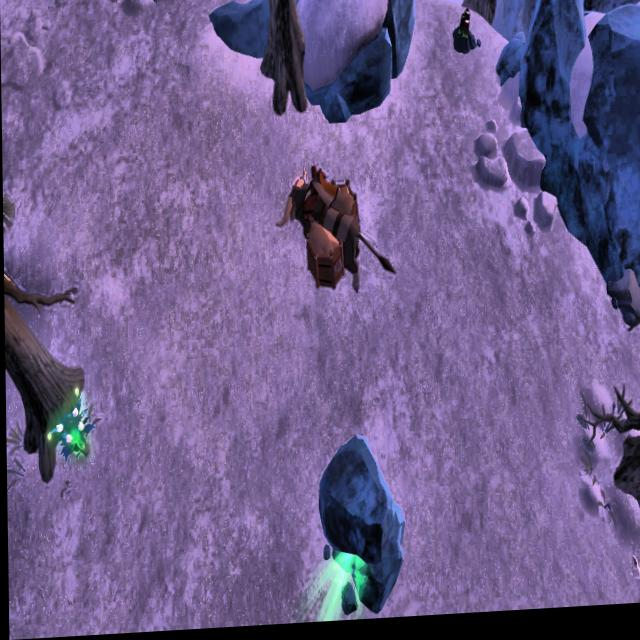ore_t3: (457, 13, 472, 50)
